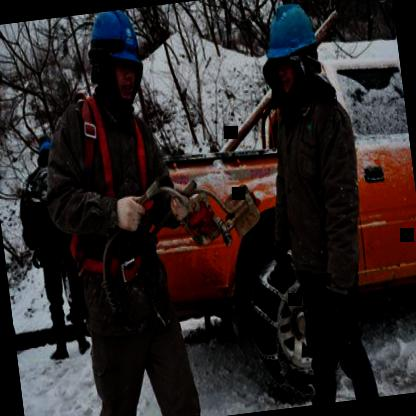helmet: (256, 0, 325, 112), (83, 9, 147, 114)
